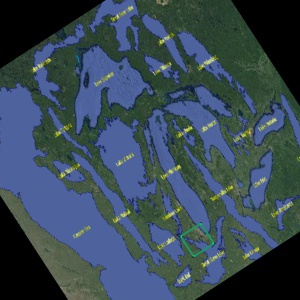square: (178, 221, 215, 258)
